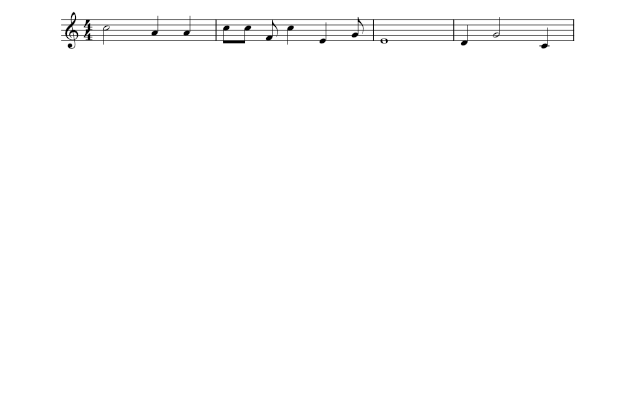Treble Clef: (60, 6, 80, 53)
